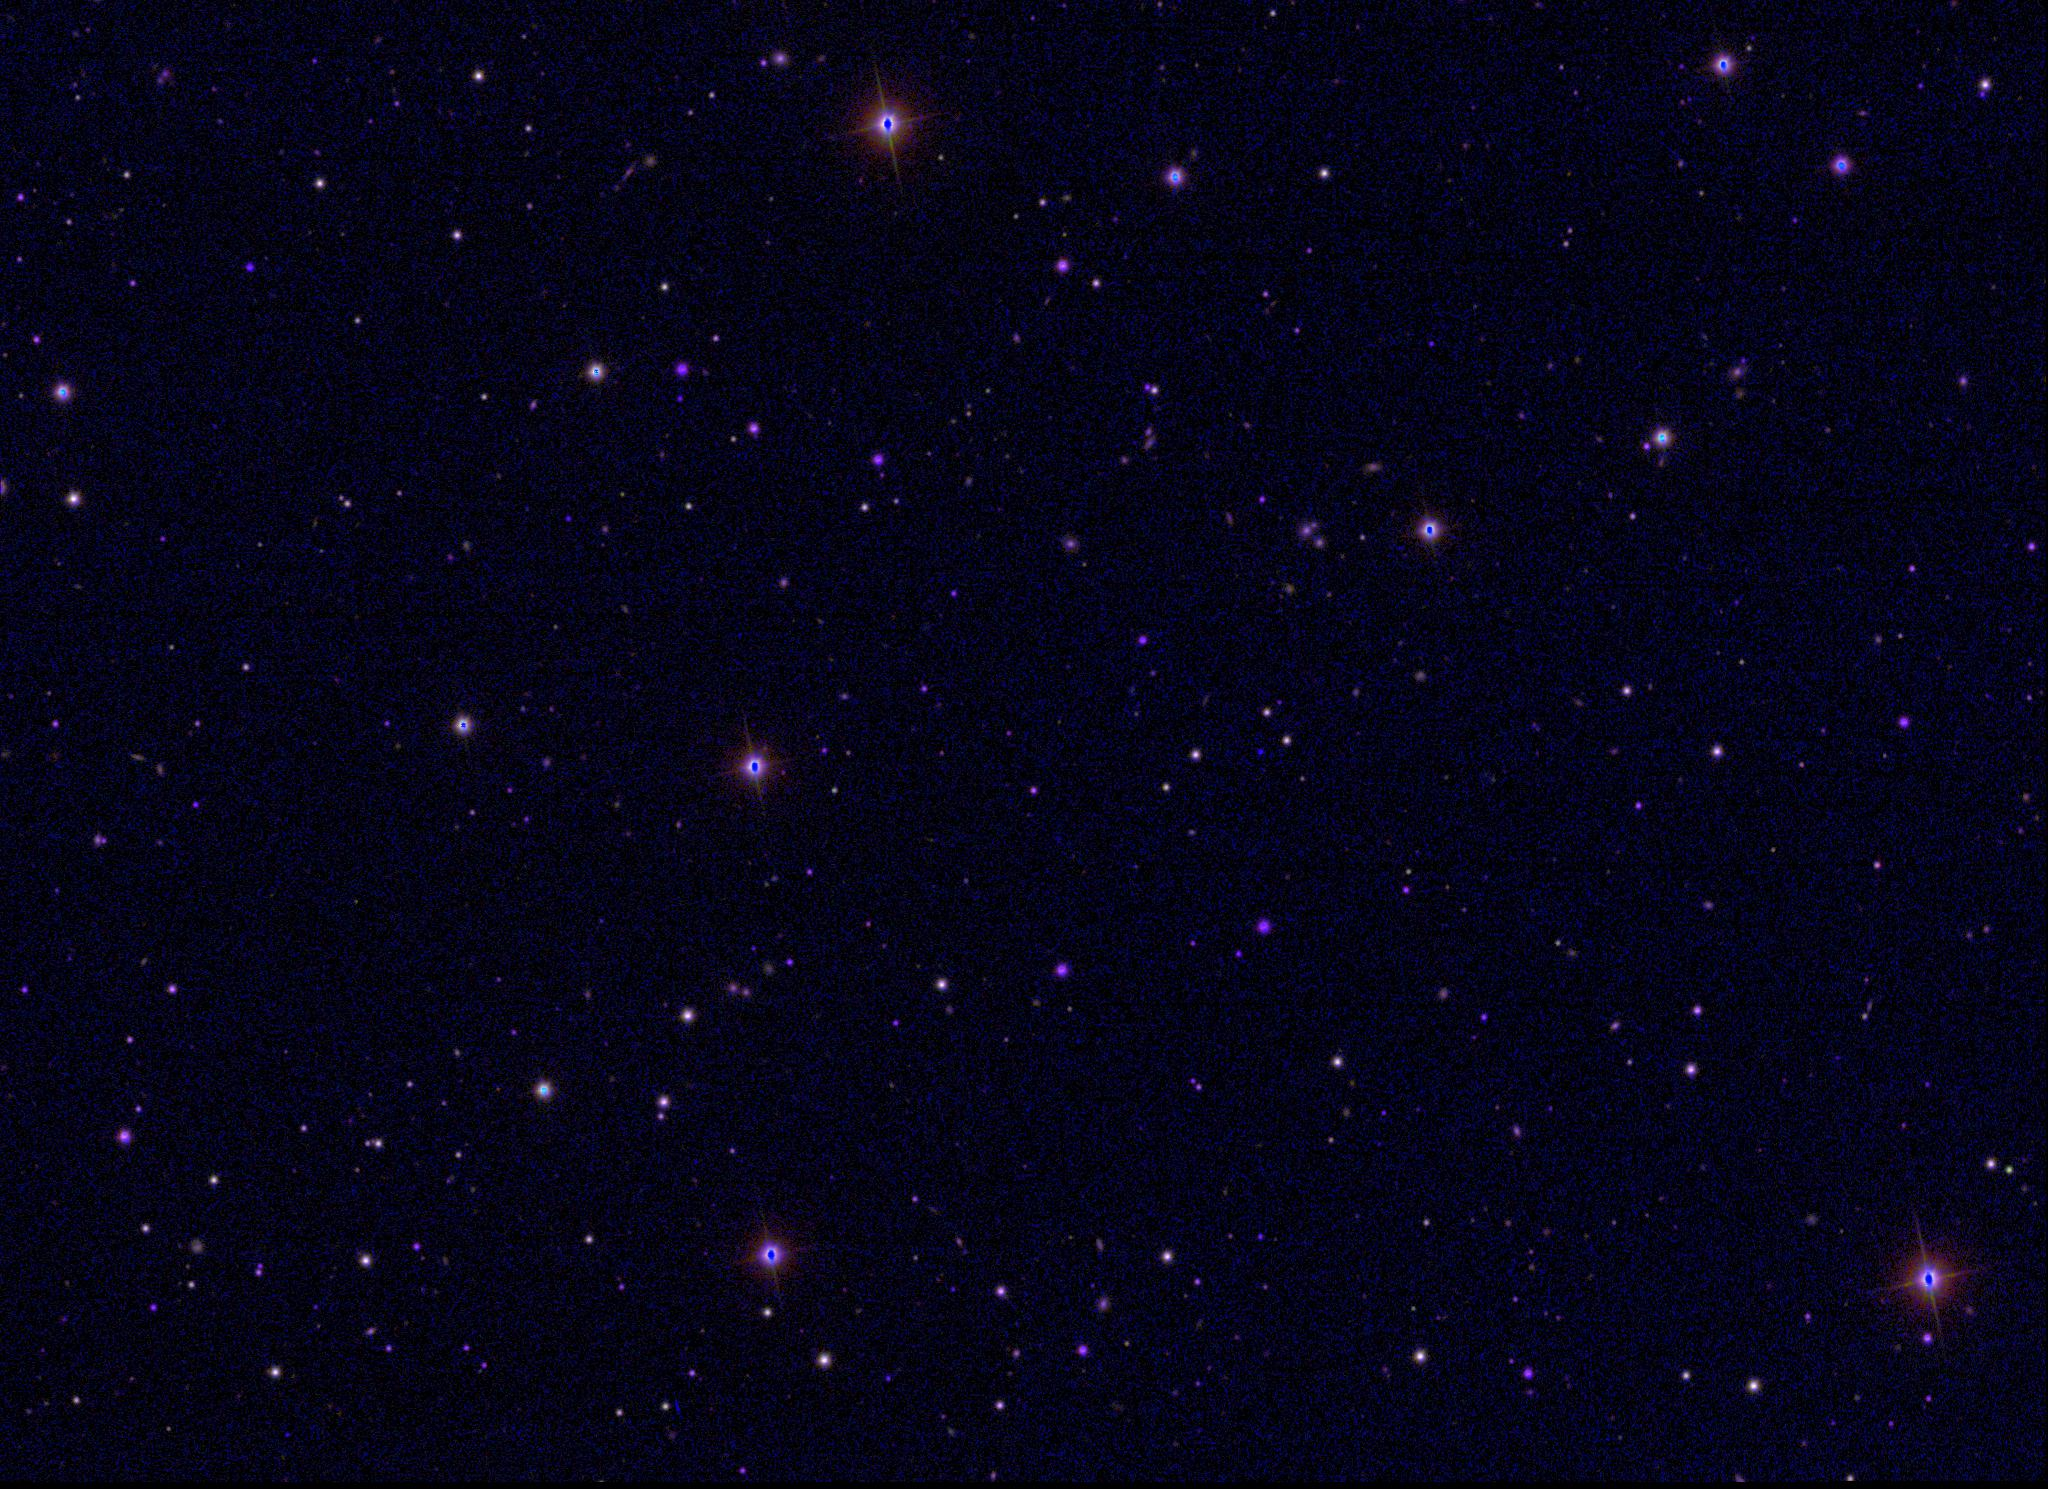L: (1255, 744, 1267, 759)
